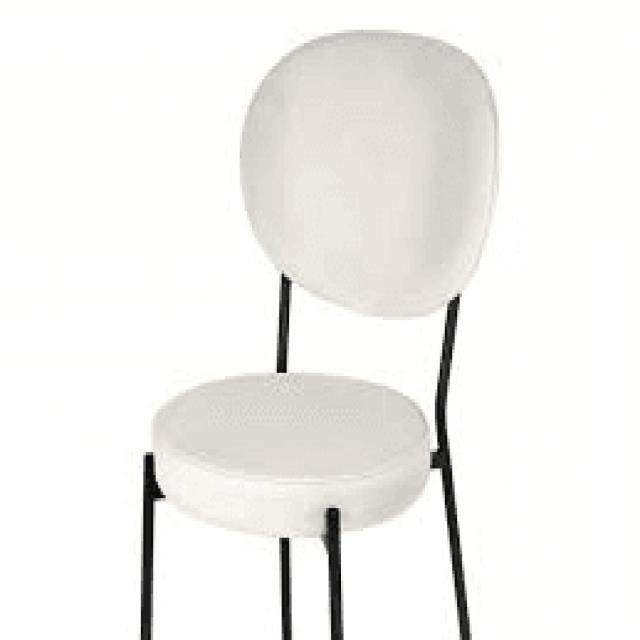chair: (138, 22, 504, 640), (150, 24, 497, 534)
